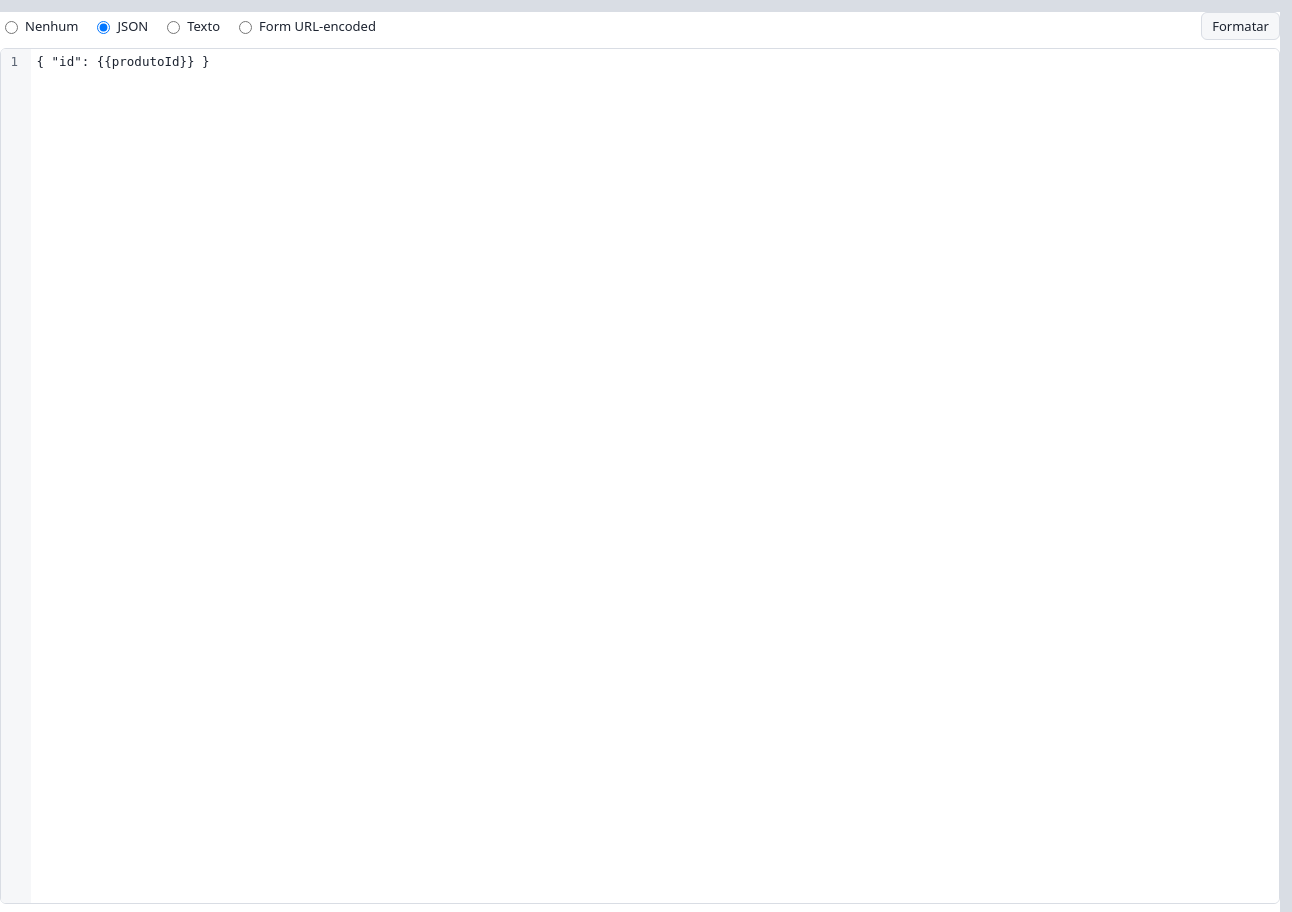
Scenario: BodyEditor › avisa JSON inválido sem considerar os placeholders
This screenshot has width=1292, height=912.
Type "," into the field with test id "body-content" at (123, 62), box [36,54,210,69]
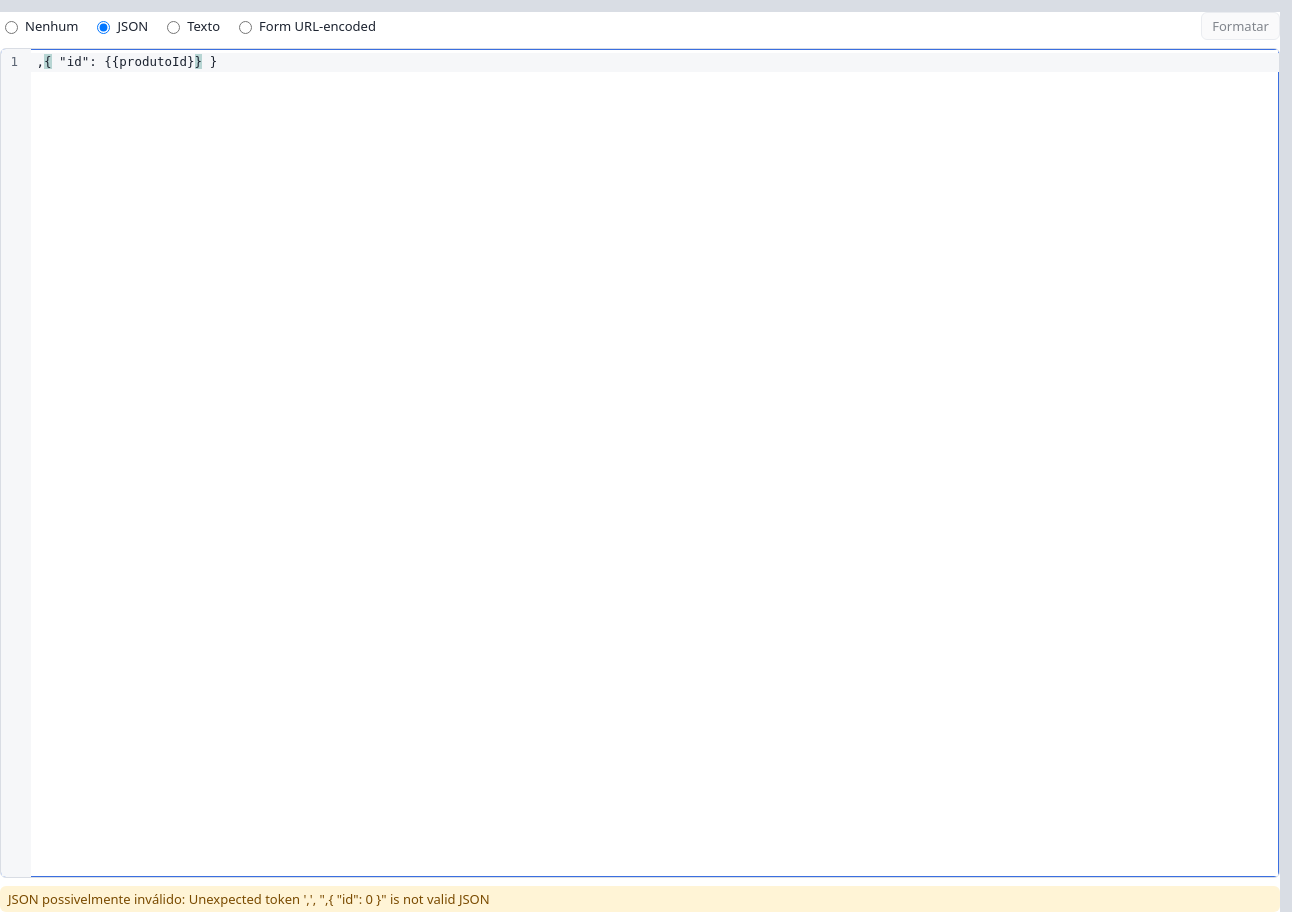
Check: the message shows "JSON possivelmente inválido", box [8,890,490,908]
